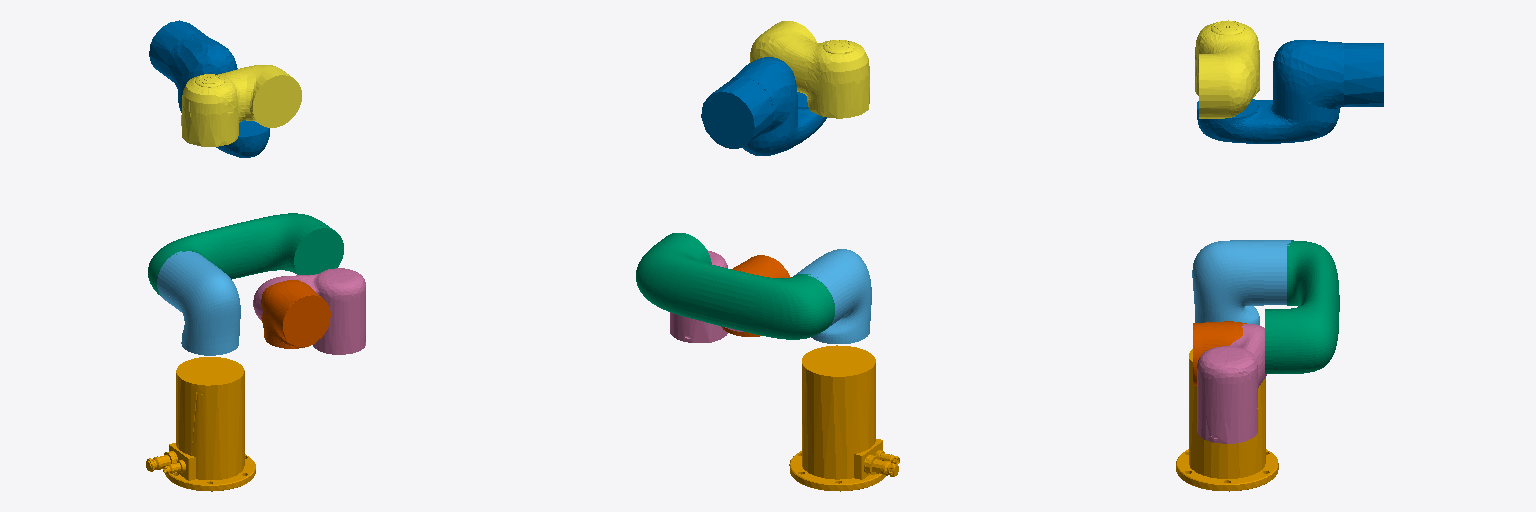
URDF robot description (xarm7):
<?xml version="1.0"?>
<robot name="xarm7">
  <link name="link_base"><visual><geometry><mesh filename="meshes/link_base.stl"/></geometry></visual></link>
  <link name="link1"><visual><geometry><mesh filename="meshes/link1.stl"/></geometry></visual></link>
  <link name="link2"><visual><geometry><mesh filename="meshes/link2.stl"/></geometry></visual></link>
  <link name="link3"><visual><geometry><mesh filename="meshes/link3.stl"/></geometry></visual></link>
  <link name="link4"><visual><geometry><mesh filename="meshes/link4.stl"/></geometry></visual></link>
  <link name="link5"><visual><geometry><mesh filename="meshes/link5.stl"/></geometry></visual></link>
  <link name="link6"><visual><geometry><mesh filename="meshes/link6.stl"/></geometry></visual></link>
  <link name="link7"><visual><geometry><mesh filename="meshes/link7.stl"/></geometry></visual></link>
  <joint name="joint1" type="revolute"><parent link="link_base"/><child link="link1"/><origin xyz="0 0 0.267" rpy="0 0 0"/><axis xyz="0 0 1"/><limit lower="-6.283185" upper="6.283185" effort="50" velocity="3"/></joint>
  <joint name="joint2" type="revolute"><parent link="link1"/><child link="link2"/><origin xyz="0 0 0" rpy="-1.5708 0 0"/><axis xyz="0 0 1"/><limit lower="-2.059" upper="2.0944" effort="50" velocity="3"/></joint>
  <joint name="joint3" type="revolute"><parent link="link2"/><child link="link3"/><origin xyz="0 -0.293 0" rpy="1.5708 0 0"/><axis xyz="0 0 1"/><limit lower="-6.283185" upper="6.283185" effort="50" velocity="3"/></joint>
  <joint name="joint4" type="revolute"><parent link="link3"/><child link="link4"/><origin xyz="0.0525 0 0" rpy="1.5708 0 0"/><axis xyz="0 0 1"/><limit lower="-0.19198" upper="3.927" effort="50" velocity="3"/></joint>
  <joint name="joint5" type="revolute"><parent link="link4"/><child link="link5"/><origin xyz="0.0775 -0.3425 0" rpy="1.5708 0 0"/><axis xyz="0 0 1"/><limit lower="-6.283185" upper="6.283185" effort="50" velocity="3"/></joint>
  <joint name="joint6" type="revolute"><parent link="link5"/><child link="link6"/><origin xyz="0 0 0" rpy="1.5708 0 0"/><axis xyz="0 0 1"/><limit lower="-1.69297" upper="3.141593" effort="50" velocity="3"/></joint>
  <joint name="joint7" type="revolute"><parent link="link6"/><child link="link7"/><origin xyz="0.076 0.097 0" rpy="-1.5708 0 0"/><axis xyz="0 0 1"/><limit lower="-6.283185" upper="6.283185" effort="50" velocity="3"/></joint>
</robot>

--- What the picture shows (computed from the rendered views, not written in the file) ---
The picture shows the robot from 3 angles, left to right: view 1: azimuth 30°, elevation 25°; view 2: azimuth 150°, elevation 25°; view 3: azimuth 270°, elevation 25°; orthographic projection.
Model xarm7 with 8 links and 7 joints (7 revolute), rooted at link_base, posed all joints at 0.
Visible links, largest first — view 1: link_base, link2, link3, link1, link4, link6, link5; view 2: link2, link_base, link4, link3, link1, link6, link5; view 3: link4, link2, link1, link6, link3, link_base, link5.
Boxes of the visible links, x1,y1,x2,y2 form: link_base: (146, 357, 255, 491); link2: (148, 213, 343, 295); link3: (181, 65, 301, 146); link1: (157, 251, 240, 355); link4: (149, 20, 269, 157); link6: (253, 268, 365, 354); link5: (261, 280, 330, 348); link2: (636, 233, 834, 339); link_base: (789, 345, 899, 491); link4: (701, 57, 826, 155); link3: (750, 21, 869, 118); link1: (794, 249, 871, 343); link6: (670, 250, 742, 342); link5: (721, 255, 790, 336); link4: (1197, 40, 1383, 143); link2: (1265, 240, 1339, 373); link1: (1192, 240, 1290, 324); link6: (1197, 324, 1266, 443); link3: (1195, 20, 1259, 118); link_base: (1176, 349, 1278, 491); link5: (1193, 321, 1246, 385).
Size in the robot's own frame: 0.3362 by 0.2551 by 0.6032 metres.
Meshes: 8 distinct files referenced, 7 mesh visuals loaded (7 binary STL); not drawn: 1 (reference not matched to a file when rendering).
